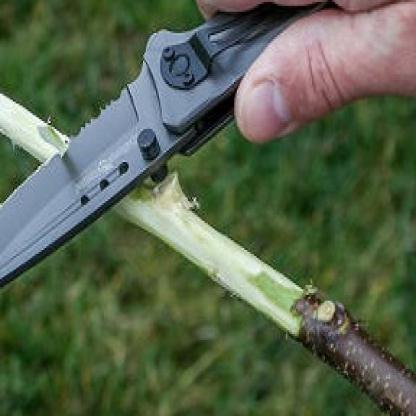knife: (0, 0, 363, 358)
